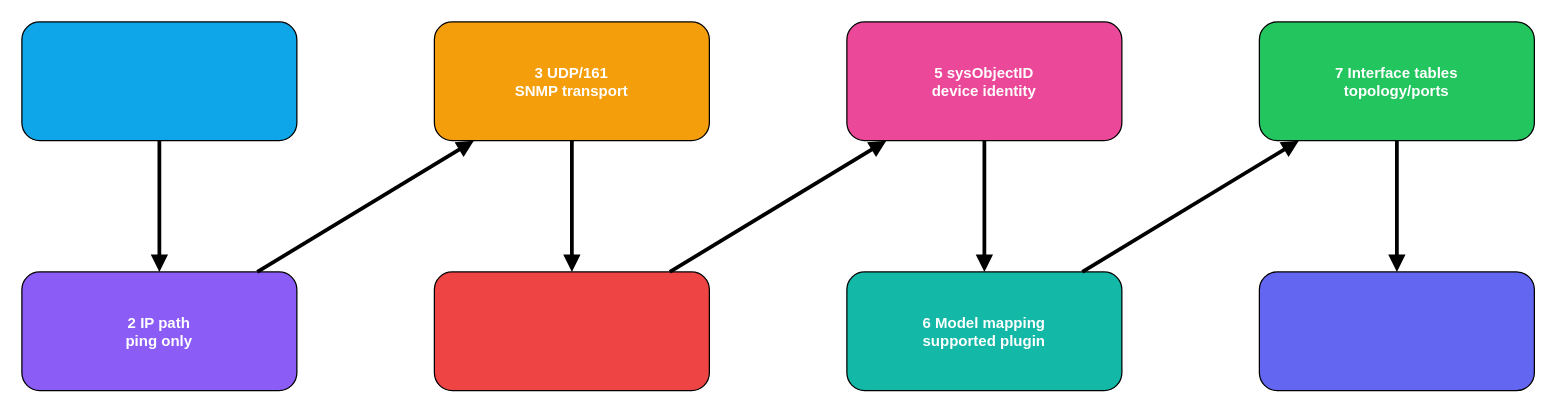
Some shapes in this 1556 by 413 pixel diagram are drawn without their labels. The centre of each missing label's shape, as x and y in pixels:
1 FortiNAC-F inventory engine: (159,81)
4 Credentials v2c/v3 auth: (571,331)
8 Control method VLAN/port action: (1396,331)
